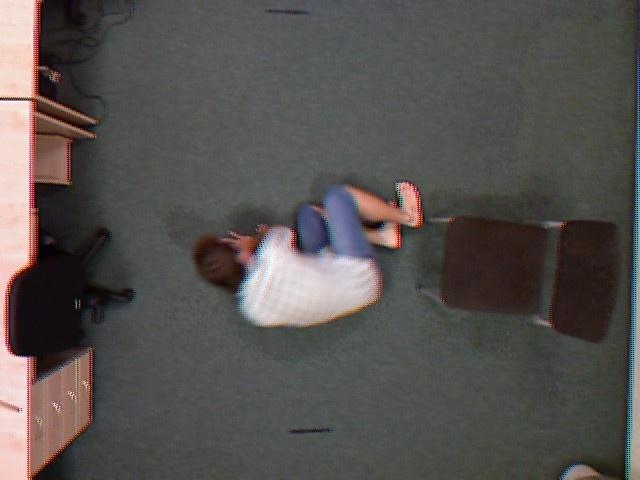fall: (188, 179, 427, 334)
